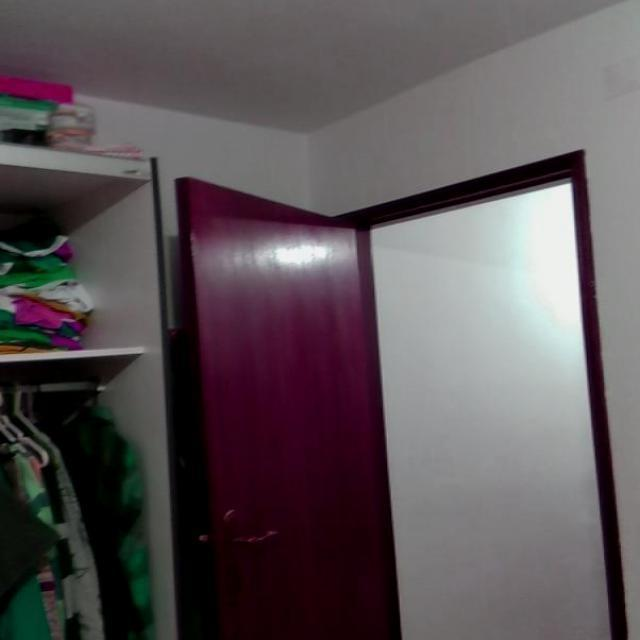door: (167, 163, 393, 640)
